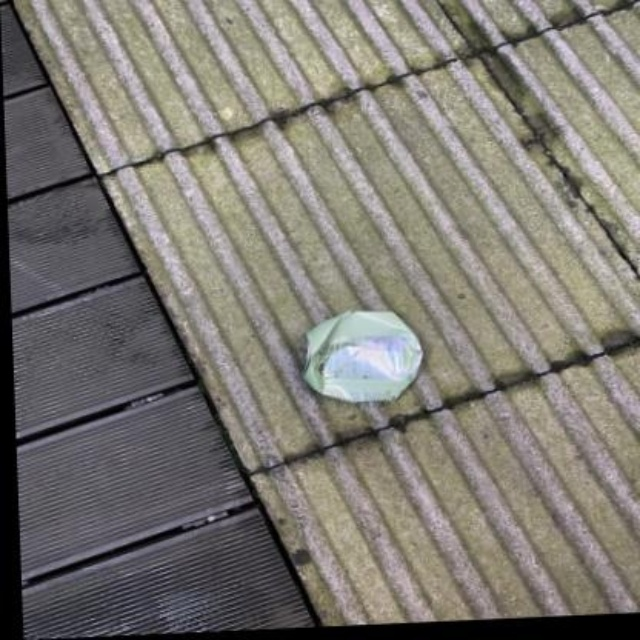trash: (303, 311, 422, 402)
